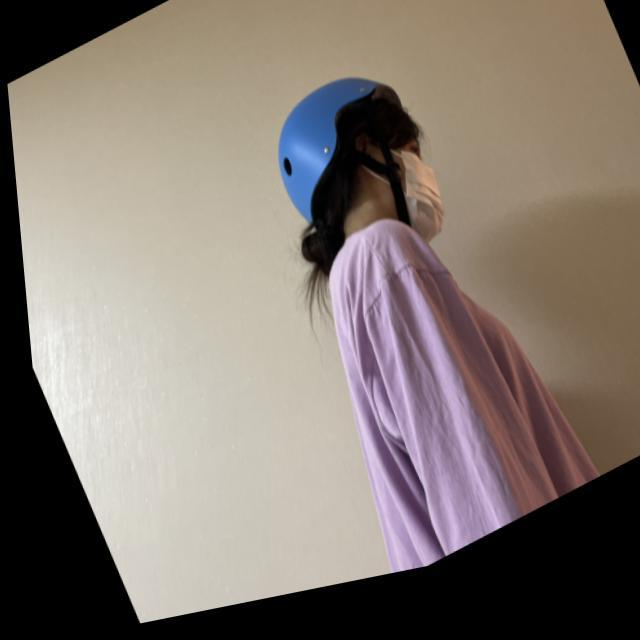Helmet: (275, 74, 455, 264)
